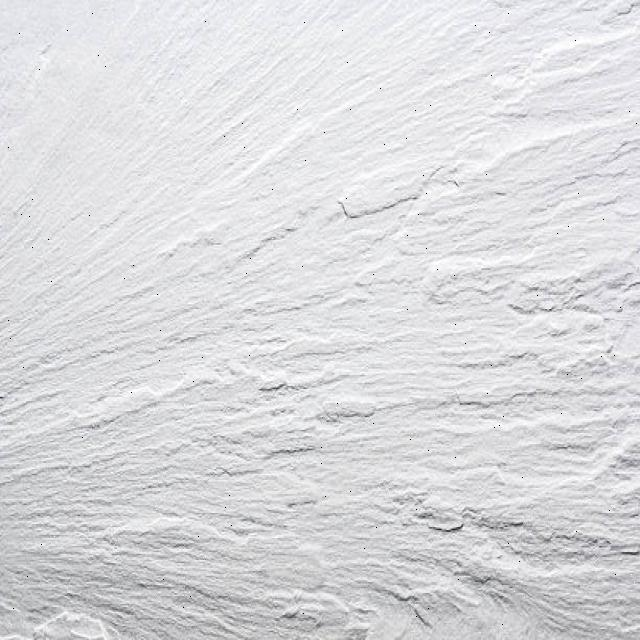Metamorphic: (19, 67, 636, 640)
